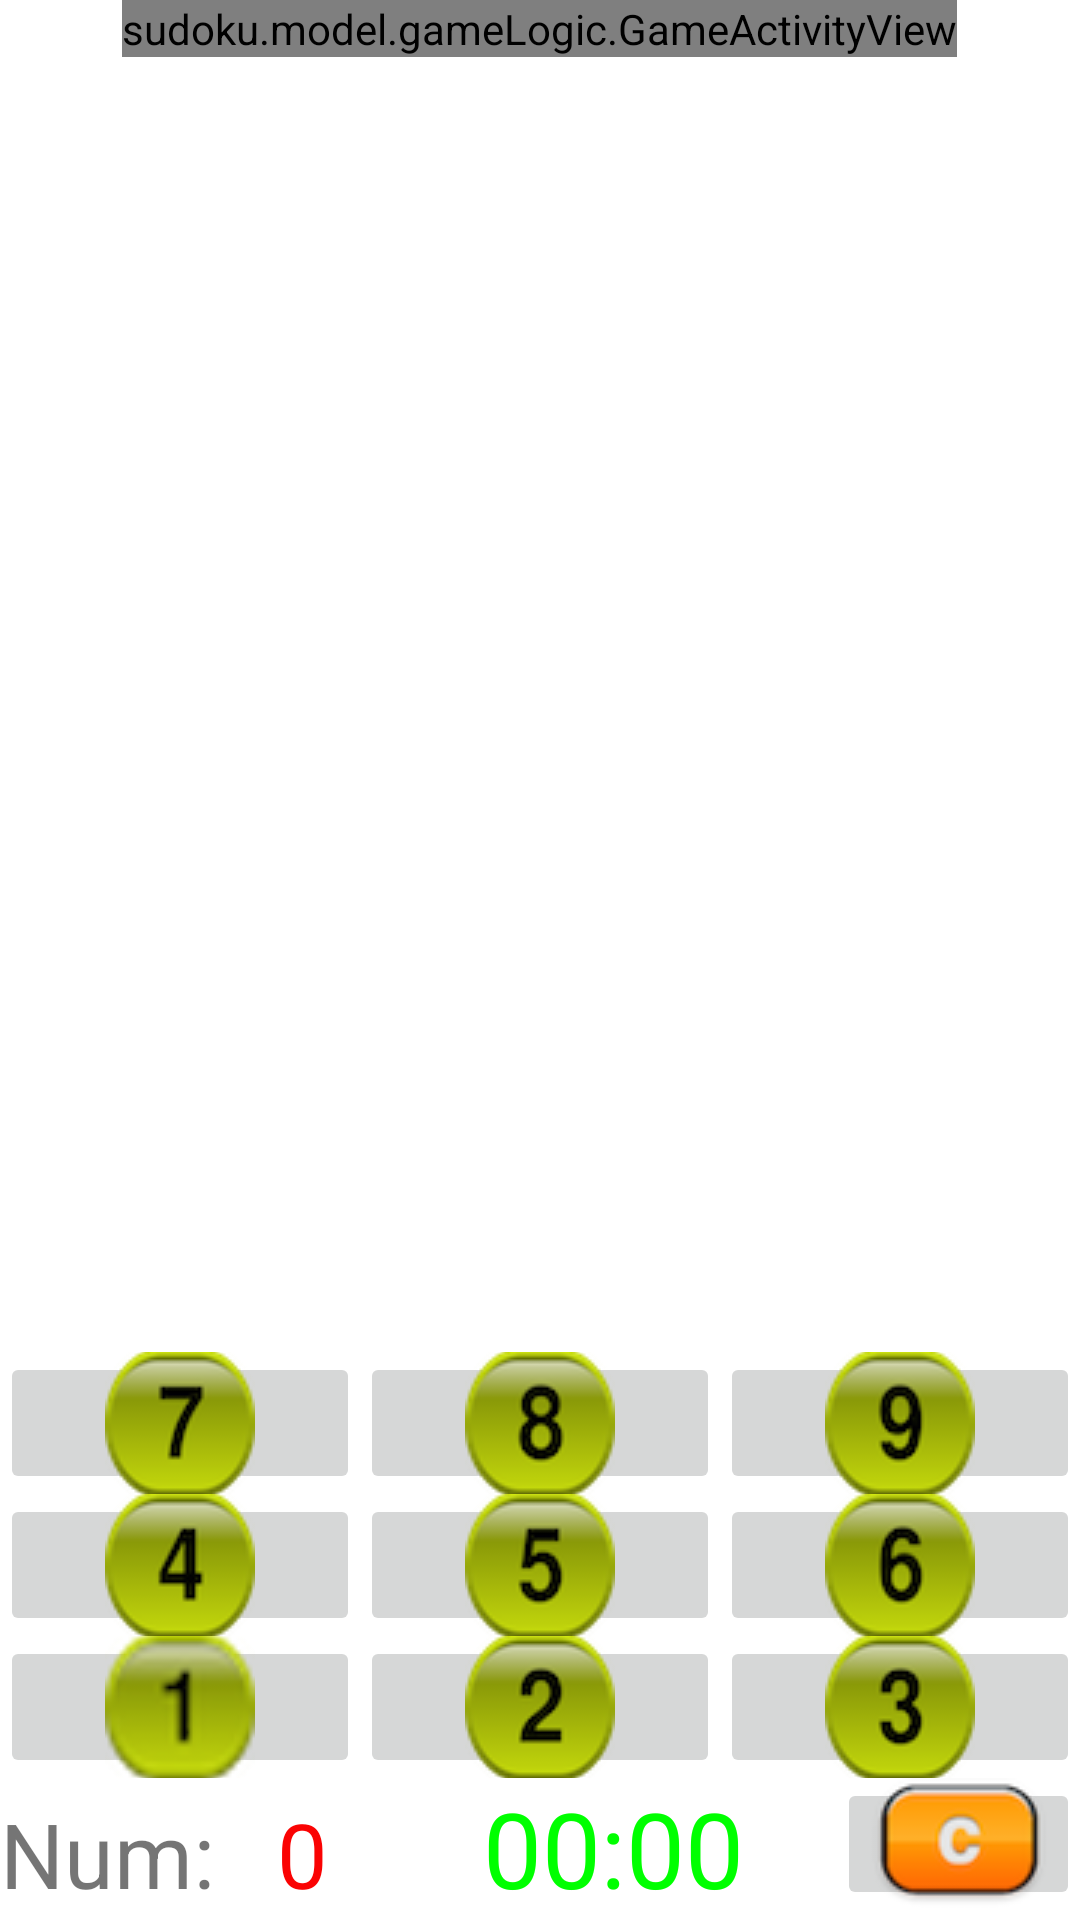

Named icons in this screenshot (1080x1920) and their bounding boxes, box=[x1, y1, x2, y2]:
clear: box=[849, 1783, 1068, 1899]
